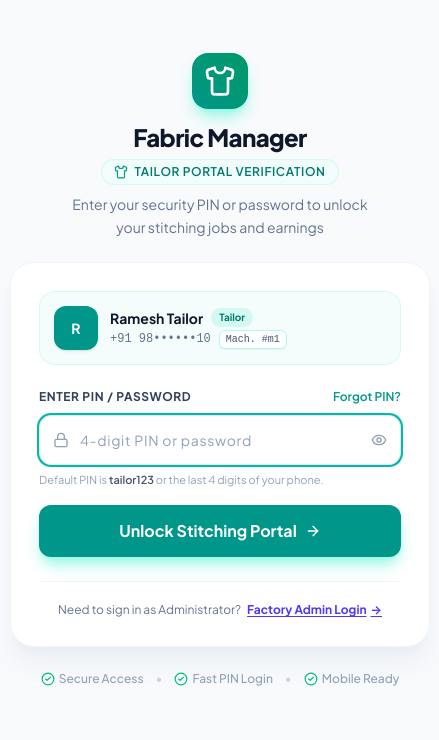
Test: Role Portals Workflow Tests › TailorPortal Workflows › displays error message on incorrect PIN submission
Type "9999" into the password field with placeholder "4-digit PIN or password" at [220, 440], box [39,415,401,465]
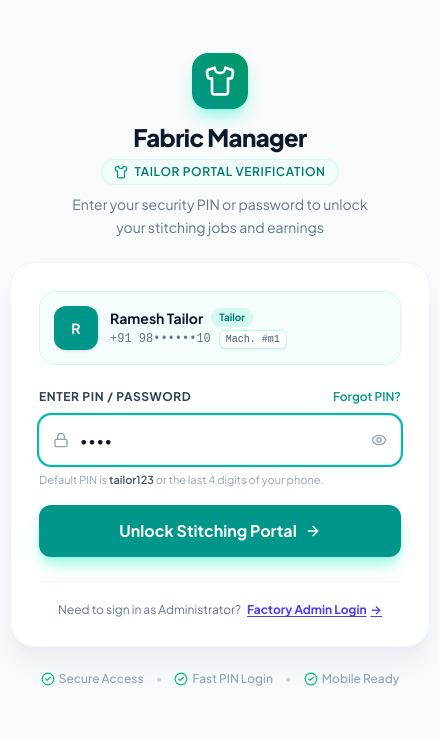
Click the button "Unlock Stitching Portal" at [220, 531], box [39,505,401,557]
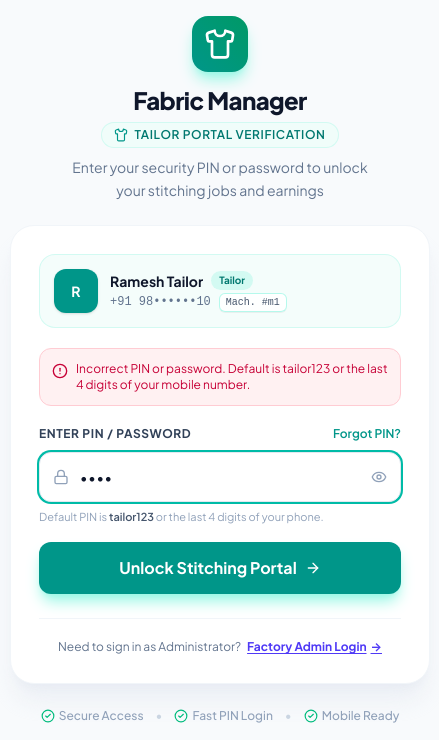
Expected: the text "Incorrect PIN or password" is shown, [76,361,388,392]
